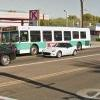buses: (0, 25, 93, 55)
